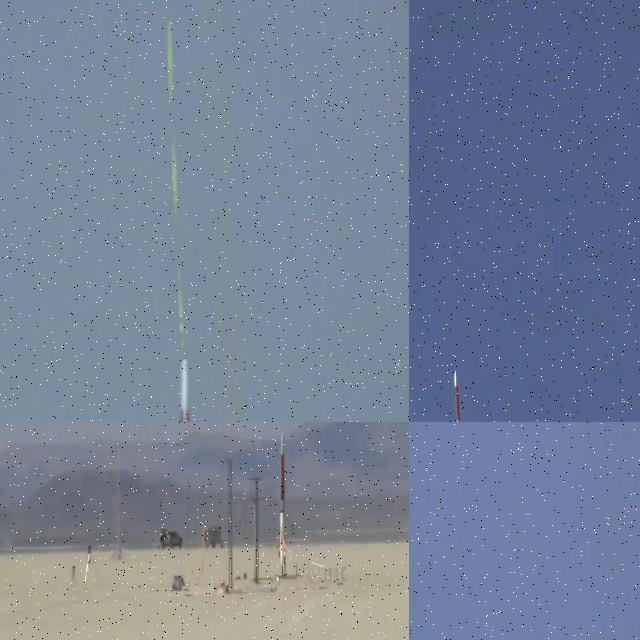Rocket: (172, 359, 198, 422), (278, 430, 287, 564), (454, 370, 465, 422)
